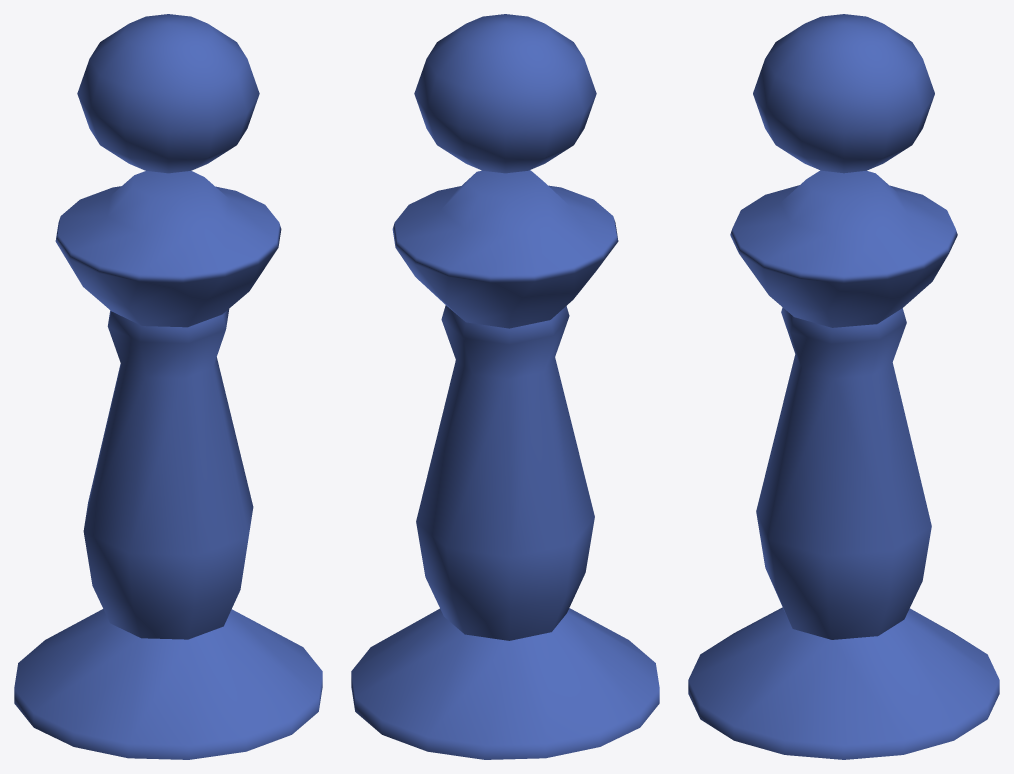
File: mod_sc_roma_001_chess_002.FBX
3 views of the same model, side by side, from view 1: azimuth 30°, elevation 25°; view 2: azimuth 150°, elevation 25°; view 3: azimuth 270°, elevation 25° (orthographic).
Parts seen in each view (by area): view 1: mod_sc_roma_001_chess_002; view 2: mod_sc_roma_001_chess_002; view 3: mod_sc_roma_001_chess_002.
Part boxes in pixels (box(x1,y1,x2,y2)): mod_sc_roma_001_chess_002: box(14, 14, 322, 759); mod_sc_roma_001_chess_002: box(351, 14, 659, 759); mod_sc_roma_001_chess_002: box(688, 14, 999, 759).
Size of what is drawn, in the model's own units: 252 by 600 by 252.
